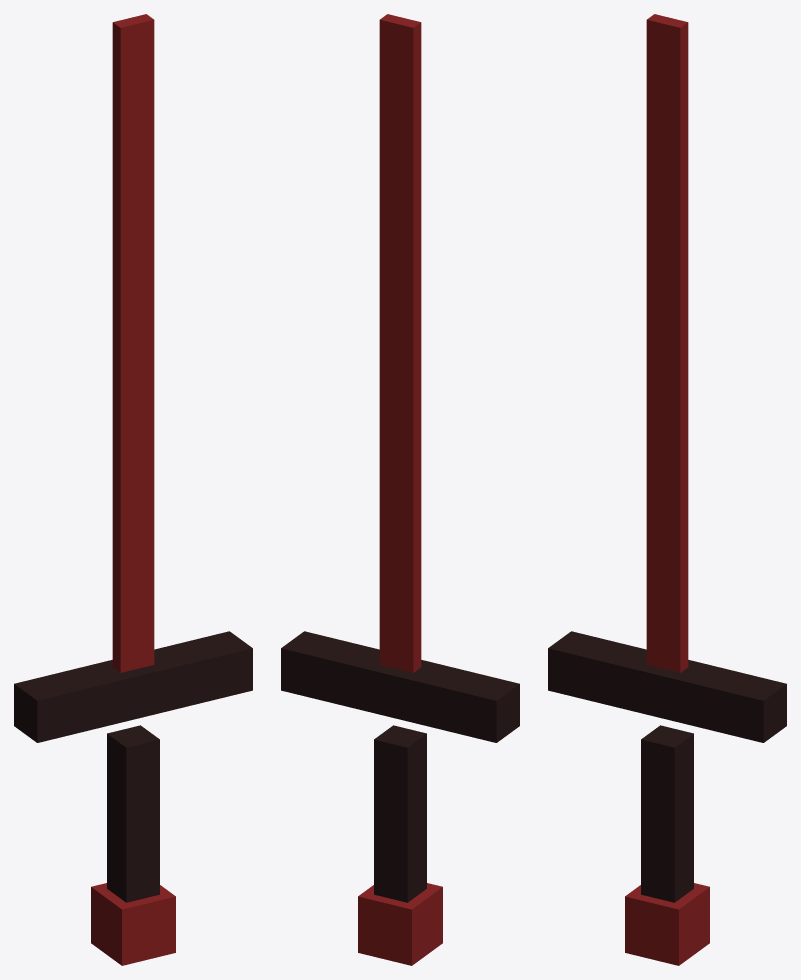
File: wpn_sword_blood.obj
The picture shows the model from 3 angles, left to right: view 1: azimuth 30°, elevation 25°; view 2: azimuth 150°, elevation 25°; view 3: azimuth 330°, elevation 25°; orthographic projection.
Parts seen in each view (by area): view 1: blade, guard, hilt, pommel; view 2: blade, guard, hilt, pommel; view 3: blade, guard, hilt, pommel.
Boxes of the visible parts, x1,y1,x2,y2 form: blade: [112, 14, 154, 672]; guard: [14, 631, 252, 742]; hilt: [107, 725, 159, 902]; pommel: [91, 883, 175, 965]; blade: [379, 14, 421, 672]; guard: [281, 631, 519, 742]; hilt: [374, 725, 426, 902]; pommel: [358, 883, 442, 965]; blade: [646, 14, 688, 672]; guard: [548, 631, 786, 742]; hilt: [641, 725, 693, 902]; pommel: [625, 883, 709, 965].
Size of the model in its own units: 0.32 by 1.32 by 0.08.
